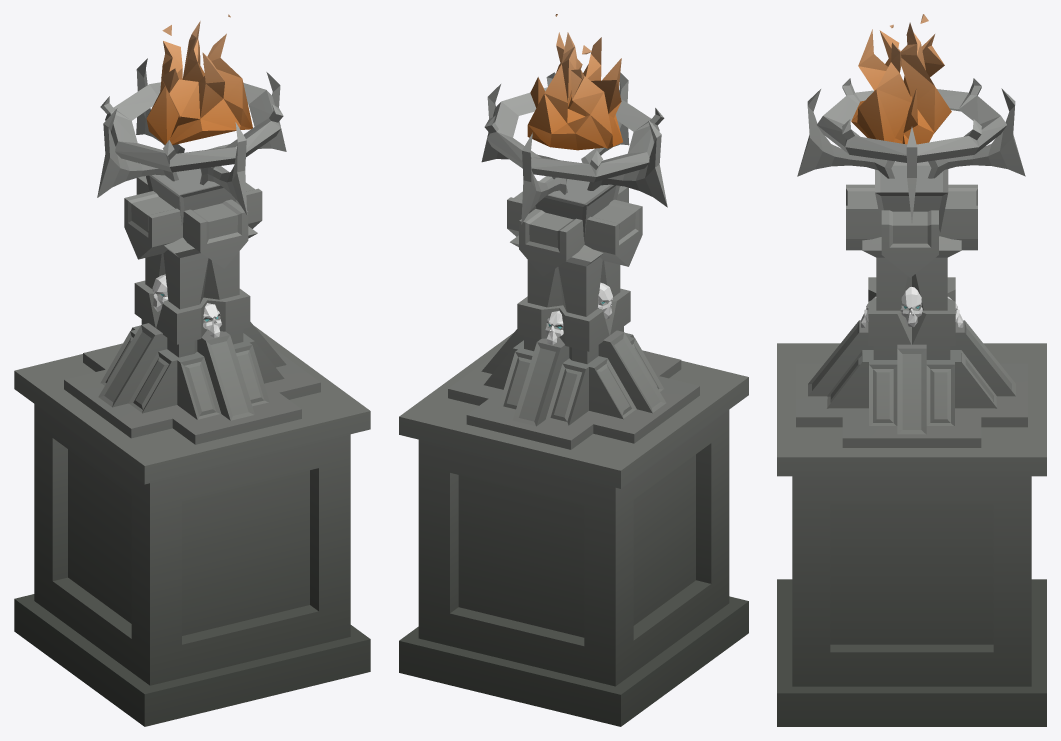
Rendered from grs_sus.fbx.
3 renders of one model, left to right at view 1: azimuth 30°, elevation 25°; view 2: azimuth 150°, elevation 25°; view 3: azimuth 270°, elevation 25°, orthographic. The views are drawn at different scales.
Visible parts, largest first — view 1: Mountain-2.002; view 2: Mountain-2.002; view 3: Mountain-2.002.
Part boxes in pixels (x1=…): Mountain-2.002: x1=14, y1=14, x2=370, y2=726; Mountain-2.002: x1=399, y1=14, x2=748, y2=726; Mountain-2.002: x1=777, y1=14, x2=1046, y2=726.
Bounding box in the file's own units: 659 × 1777 × 659.
